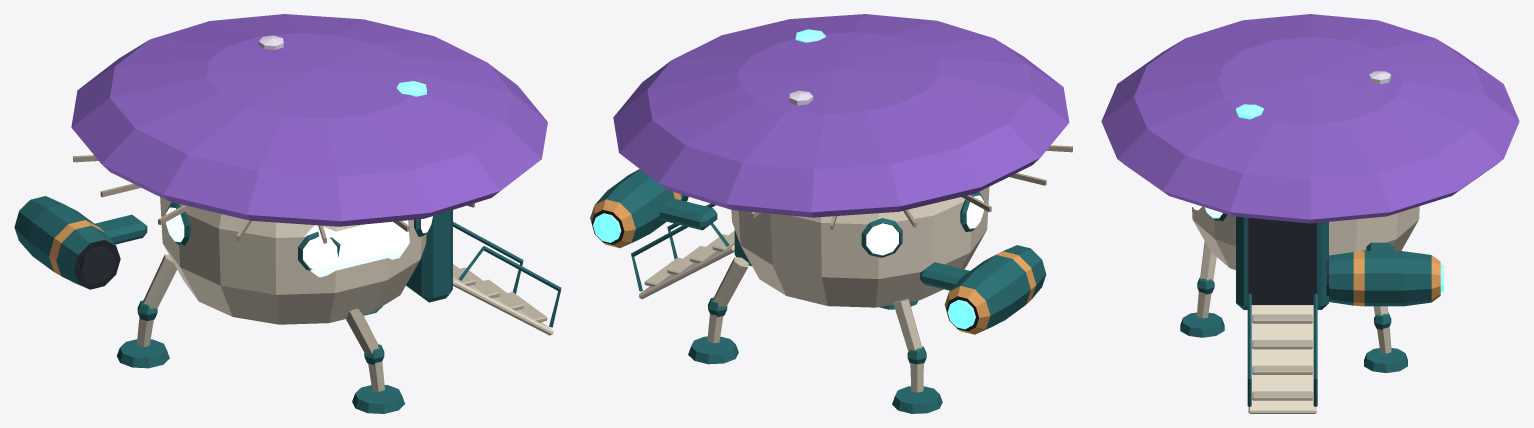
Rendered from spo-p_offen.glb.
The picture shows the model from 3 angles, left to right: view 1: azimuth 30°, elevation 25°; view 2: azimuth 150°, elevation 25°; view 3: azimuth 270°, elevation 25°; orthographic projection. The views are drawn at different scales.
Parts seen in each view (by area): view 1: pilzdach, kabine, triebwerk_r, frontfenster, treppe, türmodul, landebein_3, landebein_1, fenster, lamellen, strebe_r, kappenpunkte; view 2: pilzdach, kabine, triebwerk_r, triebwerk_l, treppe, landebein_3, landebein_2, fenster, strebe_l, strebe_r, lamellen, kappenpunkte; view 3: pilzdach, treppe, triebwerk_l, türöffnung, kabine, türmodul, landebein_1, landebein_2, kappenpunkte.
Part boxes in pixels (x1=…): pilzdach: x1=71, y1=14, x2=547, y2=226; kabine: x1=160, y1=197, x2=426, y2=324; triebwerk_r: x1=14, y1=196, x2=120, y2=289; frontfenster: x1=305, y1=220, x2=409, y2=277; treppe: x1=453, y1=221, x2=561, y2=335; türmodul: x1=406, y1=210, x2=452, y2=302; landebein_3: x1=117, y1=254, x2=177, y2=368; landebein_1: x1=346, y1=308, x2=404, y2=413; fenster: x1=166, y1=202, x2=432, y2=270; lamellen: x1=73, y1=155, x2=474, y2=243; strebe_r: x1=95, y1=214, x2=147, y2=244; kappenpunkte: x1=258, y1=35, x2=426, y2=96; pilzdach: x1=613, y1=14, x2=1069, y2=217; kabine: x1=731, y1=186, x2=989, y2=307; triebwerk_r: x1=944, y1=245, x2=1046, y2=334; triebwerk_l: x1=590, y1=169, x2=688, y2=248; treppe: x1=631, y1=203, x2=734, y2=299; landebein_3: x1=892, y1=298, x2=942, y2=413; landebein_2: x1=688, y1=257, x2=748, y2=364; fenster: x1=861, y1=192, x2=983, y2=257; strebe_l: x1=659, y1=198, x2=717, y2=230; strebe_r: x1=920, y1=262, x2=969, y2=290; lamellen: x1=750, y1=145, x2=1072, y2=229; kappenpunkte: x1=789, y1=29, x2=825, y2=105; pilzdach: x1=1101, y1=14, x2=1519, y2=223; treppe: x1=1247, y1=293, x2=1317, y2=413; triebwerk_l: x1=1326, y1=251, x2=1443, y2=306; türöffnung: x1=1248, y1=217, x2=1316, y2=304; kabine: x1=1192, y1=206, x2=1419, y2=269; türmodul: x1=1236, y1=216, x2=1328, y2=309; landebein_1: x1=1180, y1=241, x2=1224, y2=337; landebein_2: x1=1364, y1=306, x2=1407, y2=372; kappenpunkte: x1=1236, y1=71, x2=1391, y2=119.
Bounding box in the file's own units: 0.1204 × 0.0753 × 0.1125.
